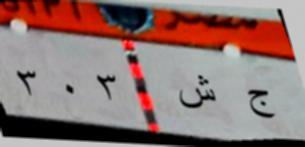0: (56, 78, 78, 112)
3: (96, 70, 119, 106), (15, 66, 38, 99)
jeem: (241, 83, 278, 126)
sheen: (173, 70, 217, 120)
